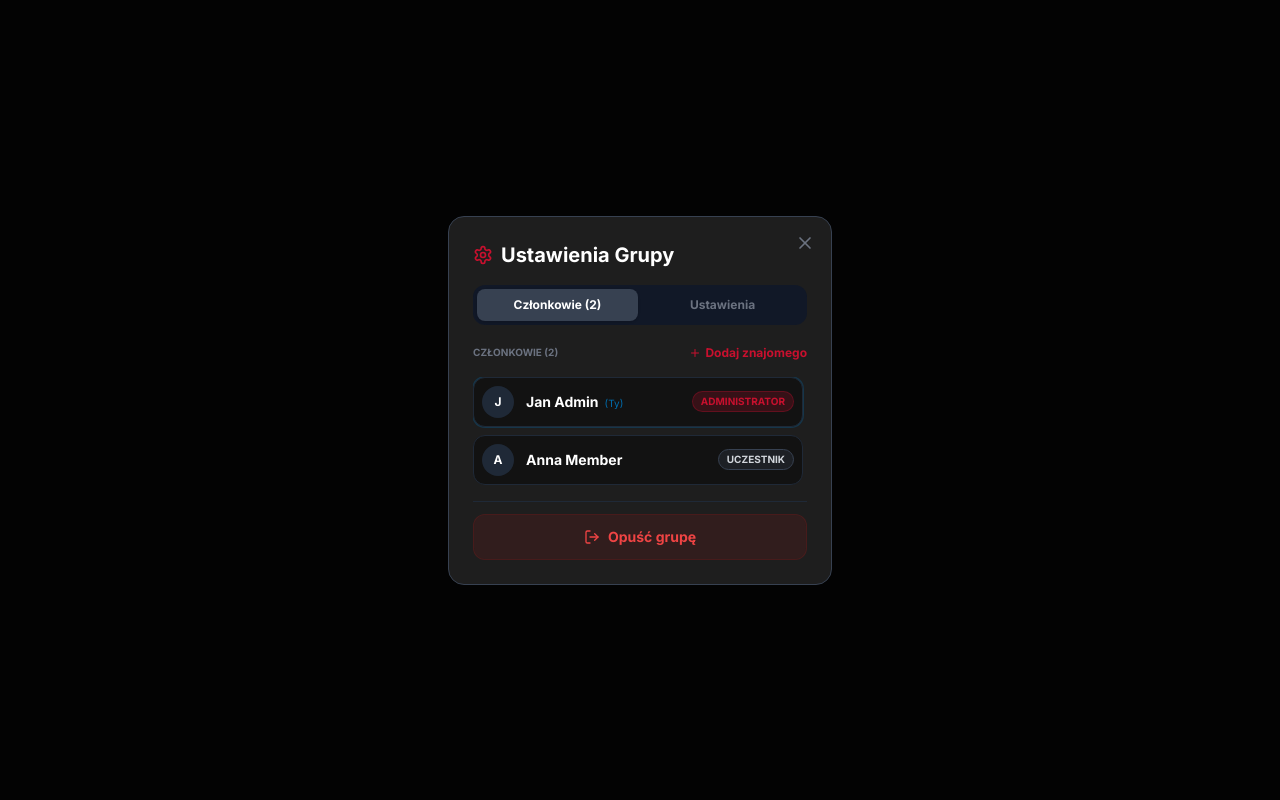
GroupSettings › shows Add Member sub-modal
The image size is (1280, 800).
Click the button "Dodaj znajomego" at [748, 352], box x1=689 y1=344 x2=807 y2=360
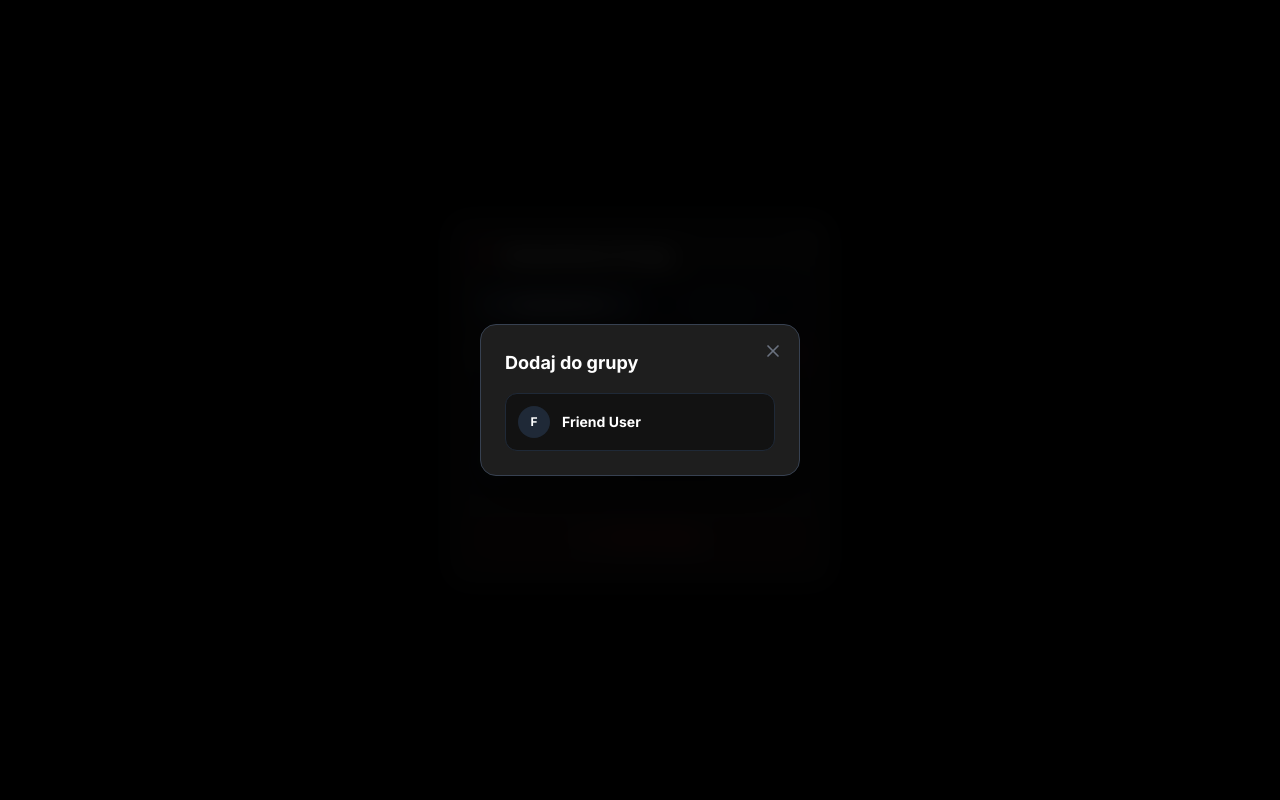
expect the text "Friend User" is shown: met, box x1=562 y1=413 x2=641 y2=430
